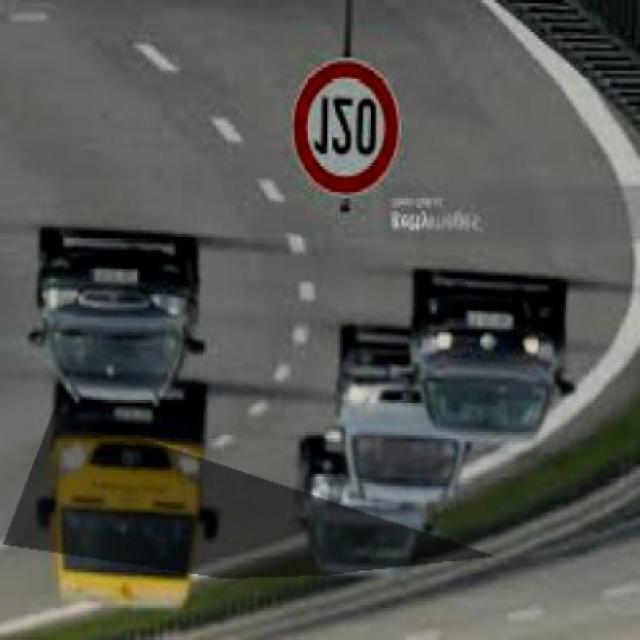forb_speed_over_120: (294, 61, 397, 192)
